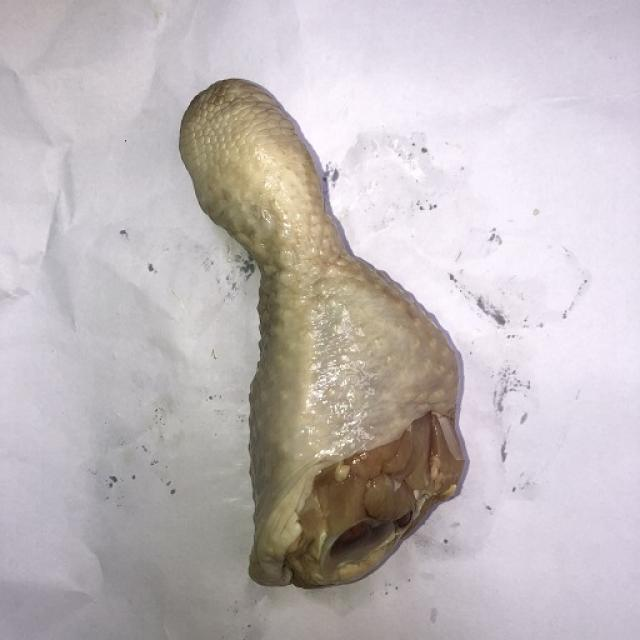chicken: (138, 69, 480, 609)
